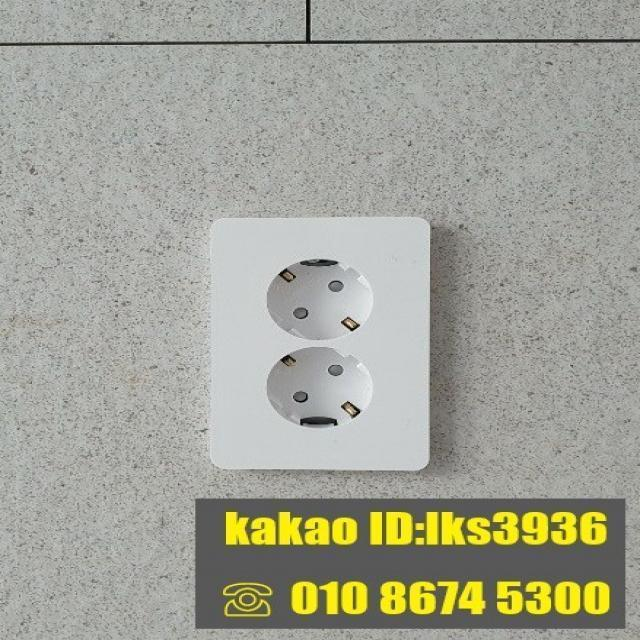typeb: (173, 196, 466, 482)
